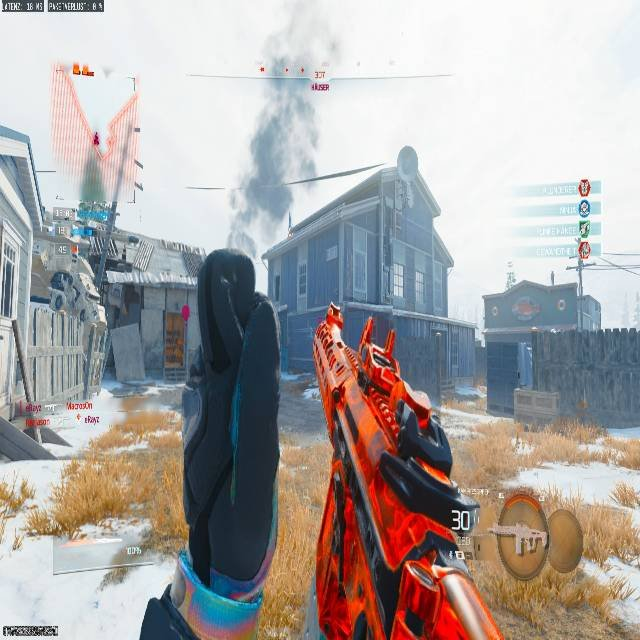player: (48, 255, 96, 320), (325, 303, 342, 342)
